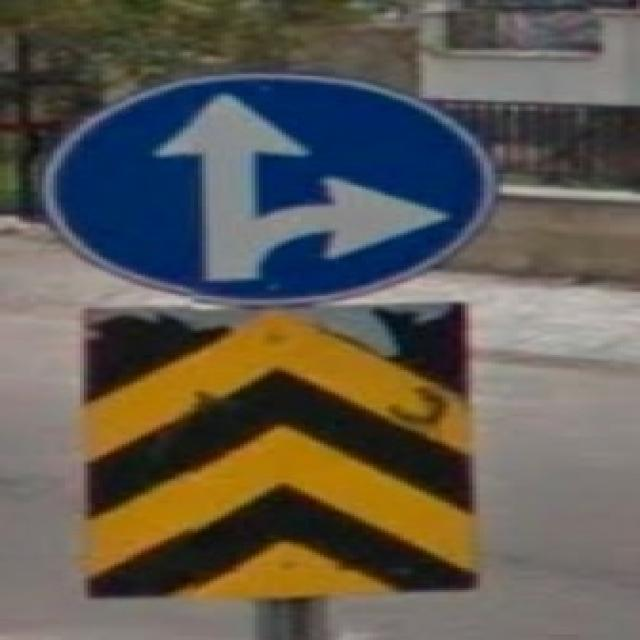Straight or Right: (43, 75, 481, 299)
